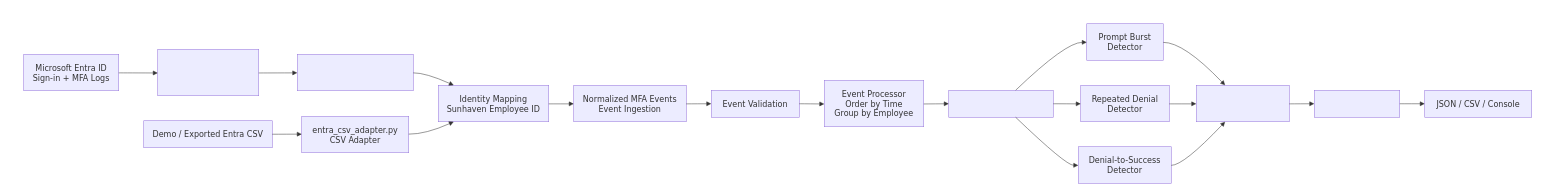
Some shapes in this 1541 by 192 pixel diagram are drawn without their labels. The shapes that lost their labels are listed below. From the top down, each one's centre as x and y in pixels, then its label:
At [208,72]: "Microsoft Graph API AuditLog.Read.All Read-Only".
At [355,72]: "entra_graph_adapter.py Live Entra Adapter".
At [1000,103]: "Rolling Time Window".
At [1242,103]: "Finding Engine Severity + Reason".
At [1357,103]: "Finding Storage".
